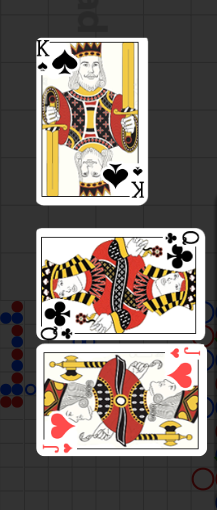JH: (42, 442, 74, 455)
KS: (129, 163, 146, 200), (36, 39, 51, 74)
QC: (36, 295, 83, 339), (157, 228, 203, 272)
